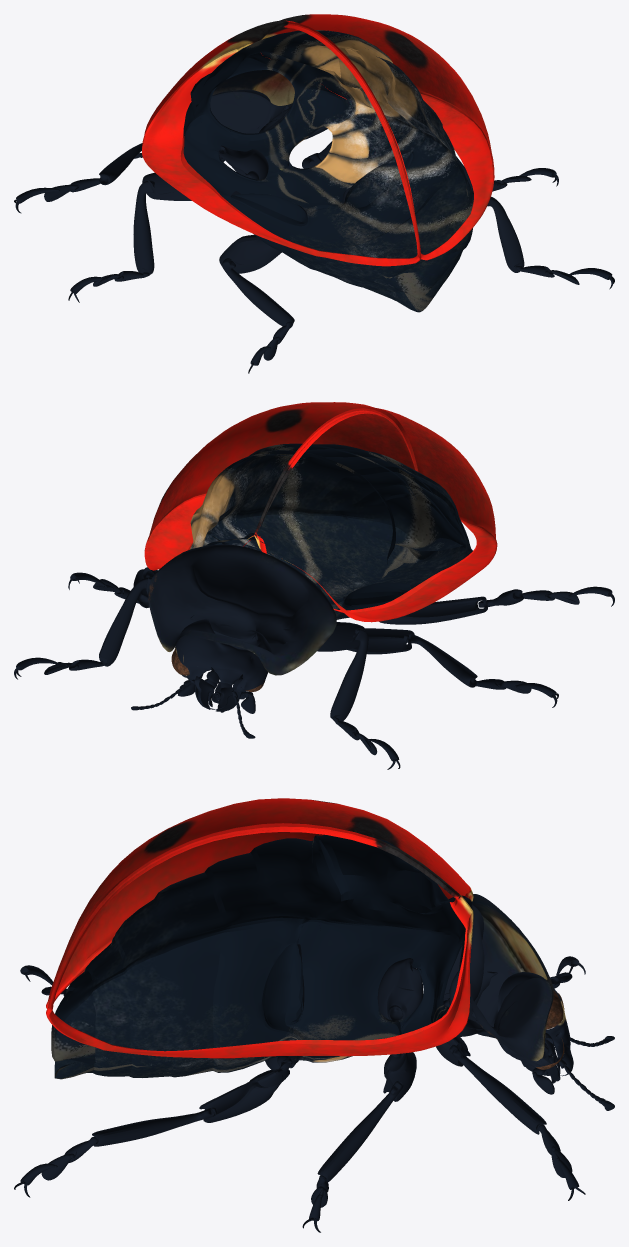
The model's file is harmonia.glb.
3 renders of one model, top to bottom at view 1: azimuth 30°, elevation 25°; view 2: azimuth 150°, elevation 25°; view 3: azimuth 270°, elevation 25°, orthographic. The views are drawn at different scales.
Visible parts, largest first — view 1: thorax, r_wing, l_wing, haead_shell, L_leg9 (×2), L_leg10, L_leg3, L_leg4, r_leg28, L_leg17; view 2: thorax, haead_shell, r_wing, l_wing, eyes-Eyes, L_leg3, L_leg17, r_leg12, L_leg9, L_leg10, L_leg16; view 3: thorax, l_wing, r_wing, haead_shell, r_leg27, eyes-Eyes, L_leg9, r_leg28, r_leg3, r_leg12, r_leg2.
Boxes of the visible parts, x1,y1,x2,y2 form: thorax: (183, 30, 473, 312); r_wing: (251, 14, 494, 260); l_wing: (142, 20, 421, 266); haead_shell: (210, 70, 294, 133); L_leg9 (×2): (142, 145, 268, 200); L_leg10: (133, 180, 154, 276); L_leg3: (219, 235, 281, 273); L_leg4: (222, 258, 294, 328); r_leg28: (487, 196, 524, 272); L_leg17: (99, 143, 142, 185); thorax: (190, 443, 472, 619); haead_shell: (148, 544, 336, 675); r_wing: (144, 402, 414, 570); l_wing: (254, 407, 497, 622); eyes-Eyes: (171, 619, 271, 709); L_leg3: (379, 596, 487, 624); L_leg17: (330, 628, 368, 720); r_leg12: (99, 577, 152, 666); L_leg9: (347, 628, 414, 654); L_leg10: (403, 634, 477, 687); L_leg16: (317, 622, 365, 651); thorax: (51, 835, 472, 1079); l_wing: (46, 798, 473, 1008); r_wing: (46, 823, 473, 1058); haead_shell: (449, 894, 553, 1061); r_leg27: (199, 1056, 292, 1122); eyes-Eyes: (495, 972, 573, 1076); L_leg9: (377, 958, 423, 1020); r_leg28: (92, 1107, 216, 1146); r_leg3: (317, 1081, 403, 1181); r_leg12: (449, 1044, 546, 1134); r_leg2: (383, 1052, 416, 1101).
Size of the model in its own units: 4.88 by 2.1 by 4.27.
Materials: 6 (6 with a texture image).
